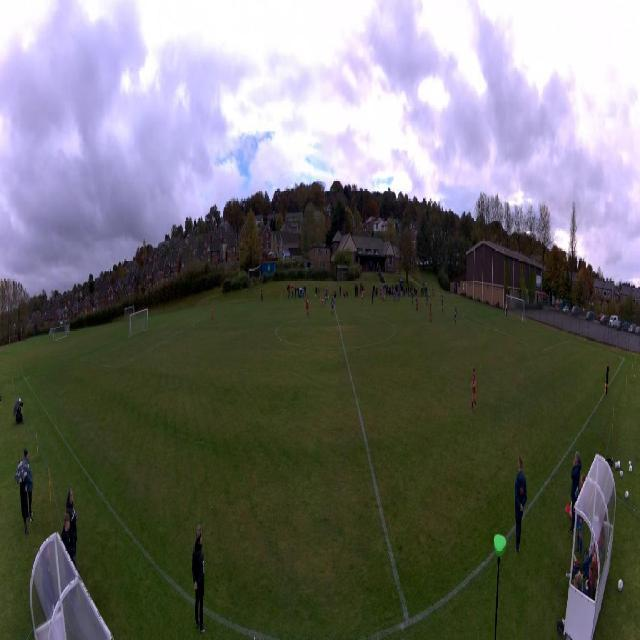ball: (327, 294, 329, 298)
player: (470, 365, 478, 417), (429, 304, 433, 323), (331, 297, 335, 315), (325, 287, 329, 303), (306, 297, 309, 318), (321, 293, 325, 308), (362, 287, 366, 301), (454, 307, 457, 325), (415, 296, 418, 312), (371, 289, 374, 305), (382, 289, 385, 305), (318, 292, 321, 308), (360, 289, 363, 304), (505, 303, 508, 318), (212, 306, 214, 324), (380, 289, 383, 300), (397, 290, 400, 301), (393, 292, 396, 303), (441, 297, 443, 313), (412, 293, 414, 307), (426, 293, 428, 307)
